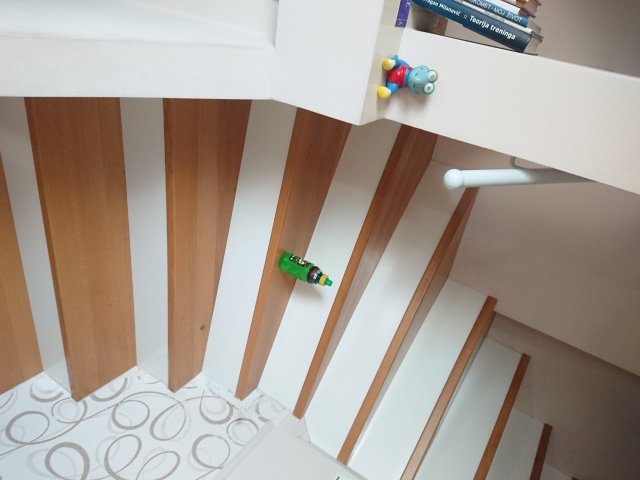Vindi Iso Sport Lemon-Grapefruit 500mL: (277, 251, 334, 288)
